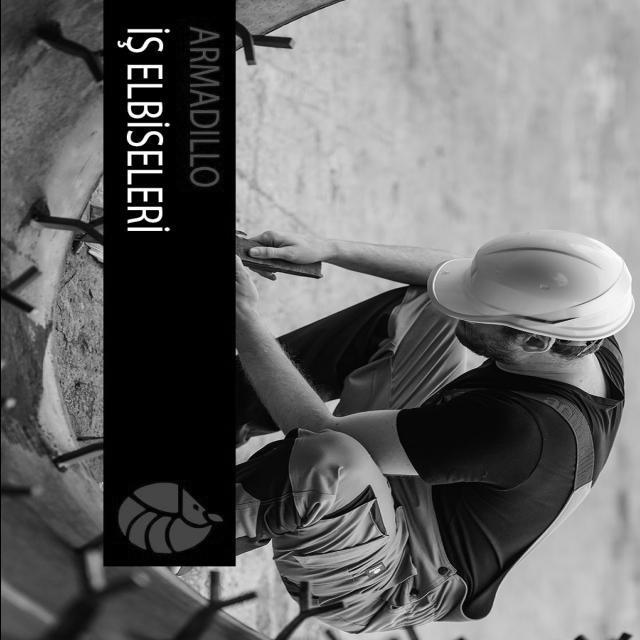safety_helmet: (425, 228, 633, 343)
